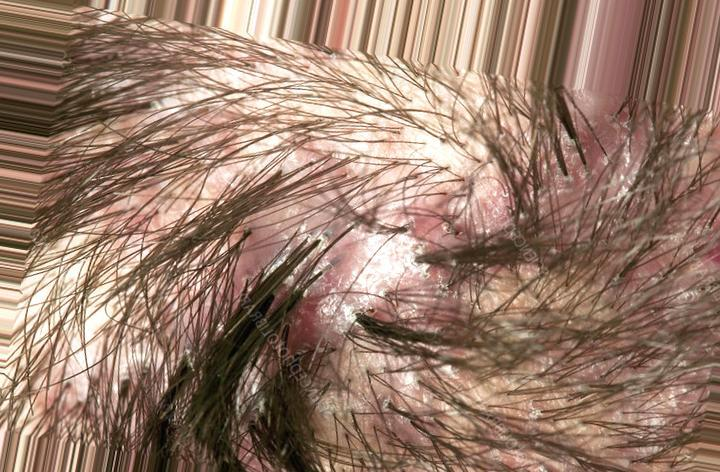Folliculitis: (231, 94, 489, 334)
